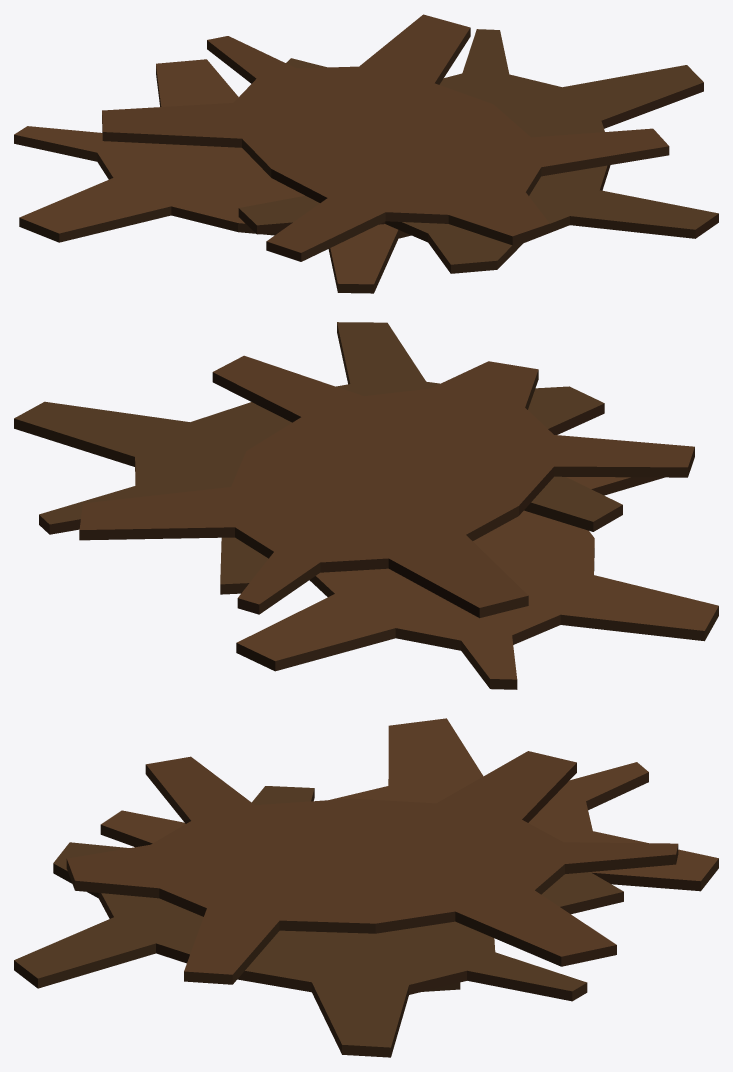
The model's file is storage_smoked_hide.glb.
3 renders of one model, top to bottom at view 1: azimuth 30°, elevation 25°; view 2: azimuth 150°, elevation 25°; view 3: azimuth 270°, elevation 25°, orthographic. The views are drawn at different scales.
Visible parts, largest first — view 1: storage_smoked_hide; view 2: storage_smoked_hide; view 3: storage_smoked_hide.
Boxes of the visible parts, box(x1,y1,x2,y2) form: storage_smoked_hide: box(14, 14, 718, 293); storage_smoked_hide: box(14, 322, 718, 689); storage_smoked_hide: box(14, 718, 718, 1057).
Size of the model in its own units: 1.84 by 0.105 by 1.59.
